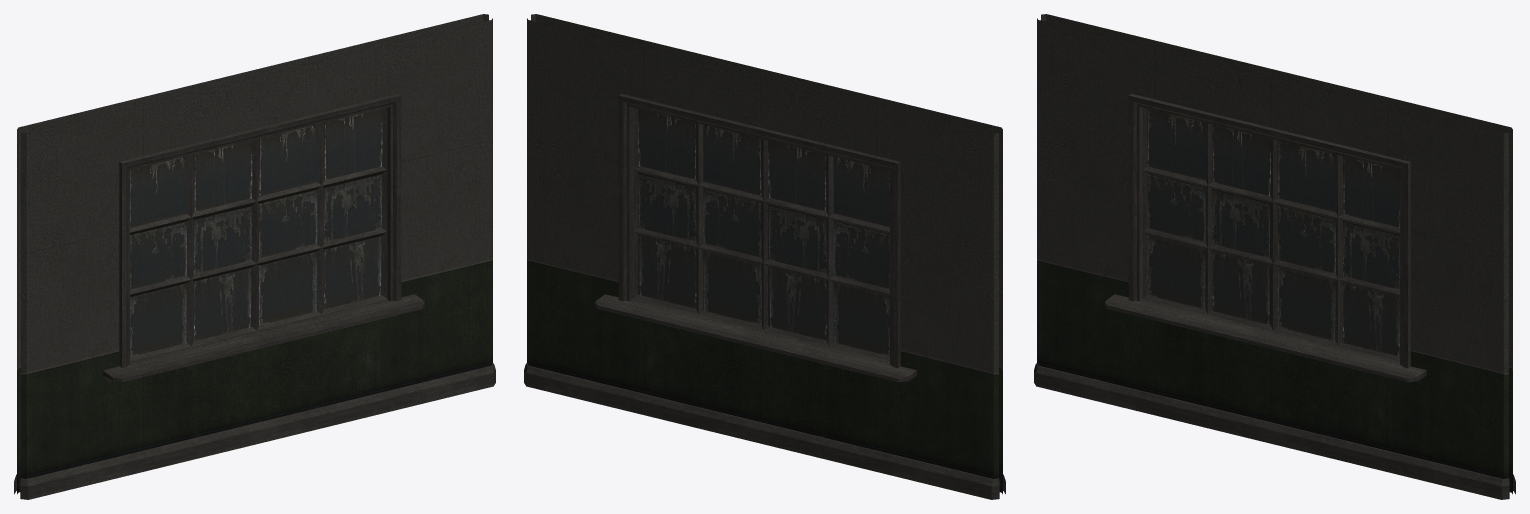
The model's file is window_2_2_double.obj.
3 renders of one model, left to right at view 1: azimuth 30°, elevation 25°; view 2: azimuth 150°, elevation 25°; view 3: azimuth 330°, elevation 25°, orthographic.
Parts seen in each view (by area): view 1: window_2_2_double; view 2: window_2_2_double; view 3: window_2_2_double.
Part boxes in pixels (<box>): window_2_2_double: <box>14,14,495,499</box>; window_2_2_double: <box>524,14,1005,499</box>; window_2_2_double: <box>1034,14,1515,499</box>.
Size of the model in its own units: 4.09 by 3 by 0.52.
